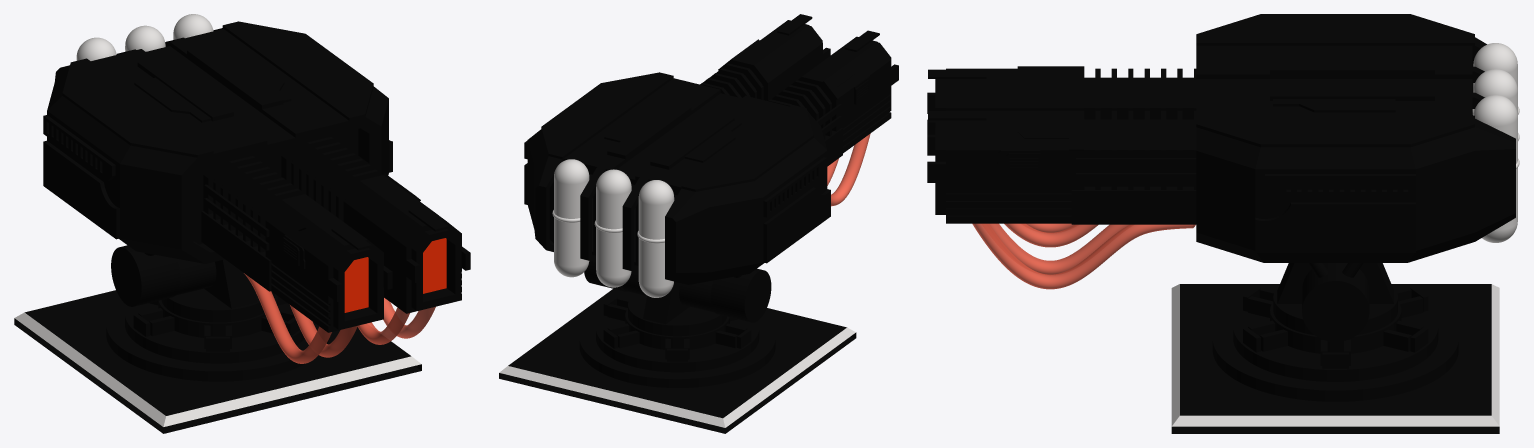
The model's file is cannon.glb.
3 views of the same model, side by side, from view 1: azimuth 30°, elevation 25°; view 2: azimuth 150°, elevation 25°; view 3: azimuth 270°, elevation 25° (orthographic). The views are drawn at different scales.
Parts seen in each view (by area): view 1: Canon (×7); view 2: Canon (×6); view 3: Canon (×6).
Boxes of the visible parts, bbox=[...] form: Canon (×7): bbox=[14, 14, 470, 433]; Canon (×6): bbox=[499, 14, 898, 433]; Canon (×6): bbox=[927, 14, 1519, 433].
Size of the model in its own units: 0.4284 by 0.395 by 0.7223.
Materials: 7 (1 with a texture image).
